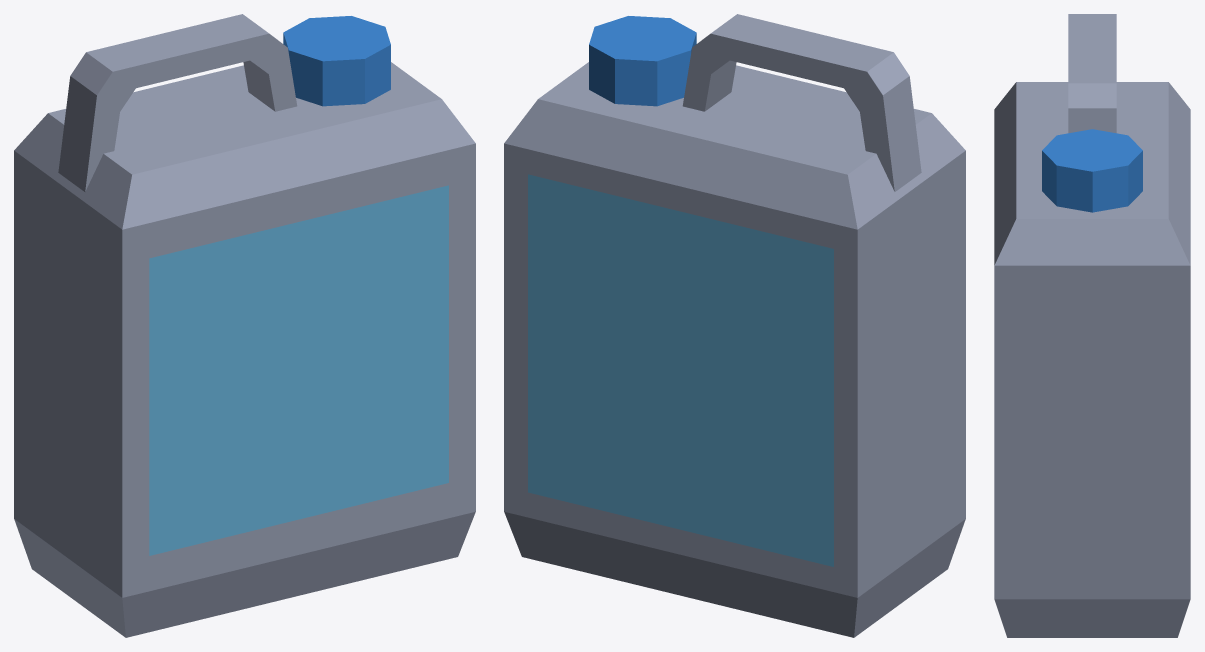
The model's file is Bottle2_geo.fbx.
The picture shows the model from 3 angles, left to right: view 1: azimuth 30°, elevation 25°; view 2: azimuth 150°, elevation 25°; view 3: azimuth 270°, elevation 25°; orthographic projection. The views are drawn at different scales.
Visible parts, largest first — view 1: Bottle2_geo; view 2: Bottle2_geo; view 3: Bottle2_geo.
Boxes of the visible parts, x1,y1,x2,y2 form: Bottle2_geo: (14, 14, 475, 637); Bottle2_geo: (504, 14, 965, 637); Bottle2_geo: (994, 14, 1190, 637).
Bounding box in the file's own units: 0.3724 × 0.1974 × 0.5399.
